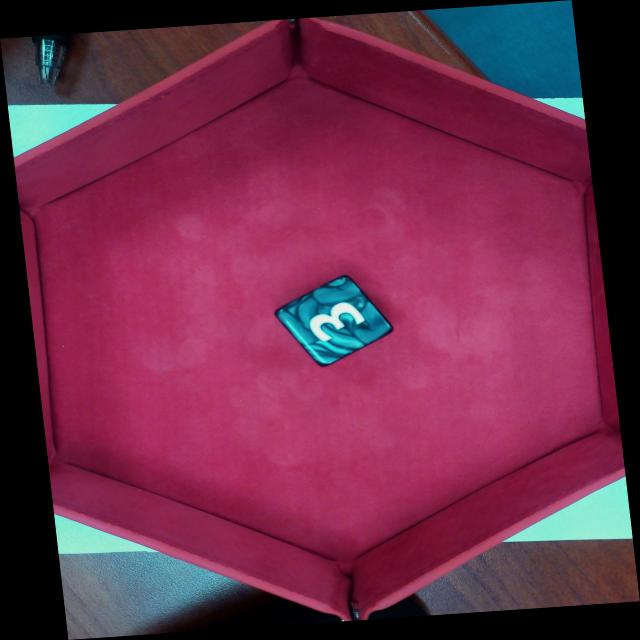dice: (276, 277, 395, 370)
